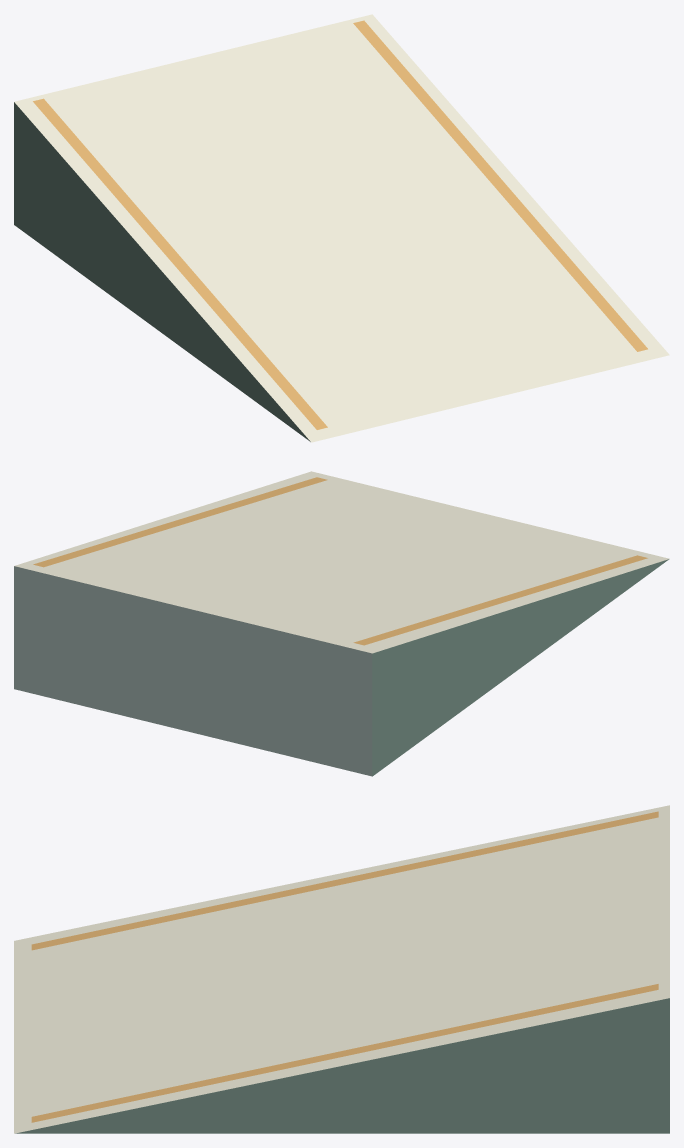
File: ramp.glb
The picture shows the model from 3 angles, top to bottom: view 1: azimuth 30°, elevation 25°; view 2: azimuth 150°, elevation 25°; view 3: azimuth 270°, elevation 25°; orthographic projection. The views are drawn at different scales.
Parts seen in each view (by area): view 1: ramp; view 2: ramp; view 3: ramp.
Boxes of the visible parts, left/top/right/bottom form: ramp: left=14, top=14, right=669, bottom=442; ramp: left=14, top=471, right=669, bottom=776; ramp: left=14, top=805, right=669, bottom=1133.
Bounding box in the file's own units: 3.2 × 1.06 × 4.6.
